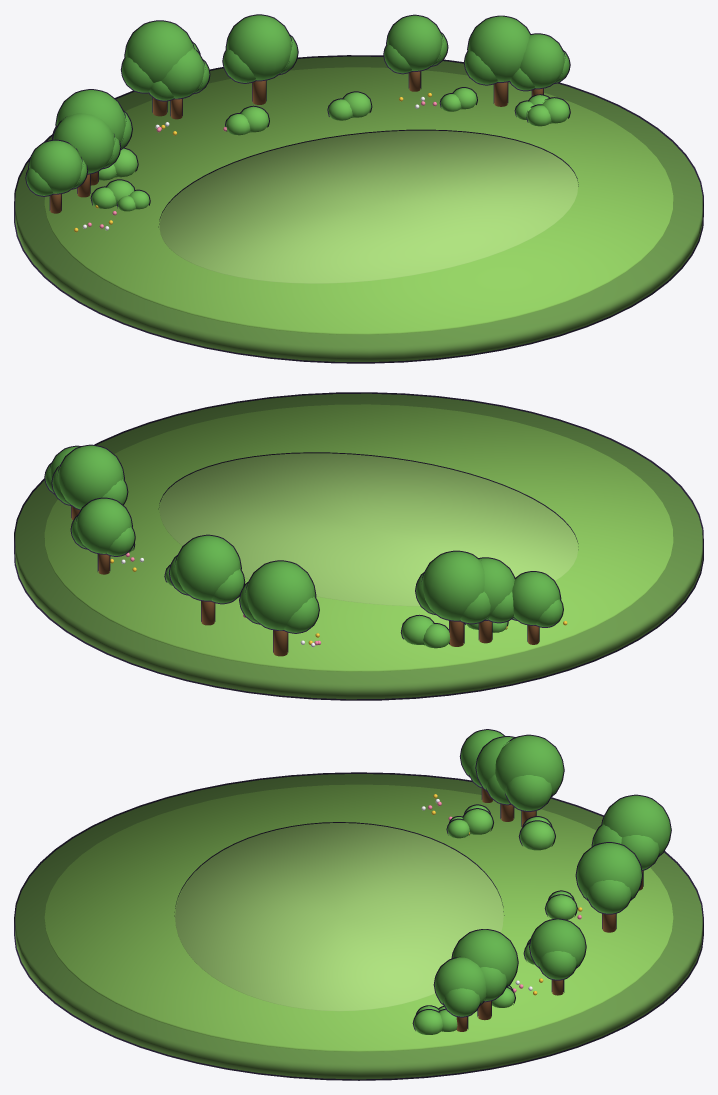
Rendered from verdant.glb.
3 renders of one model, top to bottom at view 1: azimuth 30°, elevation 25°; view 2: azimuth 150°, elevation 25°; view 3: azimuth 270°, elevation 25°, orthographic.
Visible parts, largest first — view 1: ground, floor, skirt, crown, crown.006, crown.009, crown.003, crown.015, crown.012, crown.018, crown.024, crown.021 (+5 smaller); view 2: ground, floor, skirt, crown.009, crown.024, crown, crown.006, crown.015, crown.012, crown.003, crown.010, crown.001 (+6 smaller); view 3: ground, floor, skirt, crown.024, crown, crown.009, crown.006, crown.015, crown.018, crown.026, crown.002, crown.003 (+9 smaller).
Boxes of the visible parts, x1,y1,x2,y2 form: ground: (44,67,673,334); floor: (158,129,578,283); skirt: (14,55,703,363); crown: (225,14,292,81); crown.006: (467,15,530,82); crown.009: (124,20,194,82); crown.003: (52,113,115,174); crown.015: (386,14,443,71); crown.012: (28,139,83,194); crown.018: (520,33,565,89); crown.024: (55,89,126,142); crown.021: (161,48,205,99); ground: (44,404,673,671); floor: (158,452,578,606); skirt: (14,392,703,700); crown.009: (245,560,316,630); crown.024: (421,550,484,621); crown: (175,534,241,601); crown.006: (57,444,124,510); crown.015: (75,497,132,554); crown.012: (512,571,561,625); crown.003: (478,557,515,620); crown.010: (283,596,319,633); crown.001: (210,569,245,604); ground: (44,784,673,1051); floor: (174,822,504,1011); skirt: (14,772,703,1080); crown.024: (495,734,564,796); crown: (575,842,642,900); crown.009: (601,794,671,856); crown.006: (451,929,518,987); crown.015: (529,918,586,968); crown.018: (433,956,486,1005); crown.026: (505,775,552,811); crown.002: (586,880,631,914); crown.003: (475,736,515,791).
Size of the model in its own units: 21.07 by 3.66 by 21.07.
